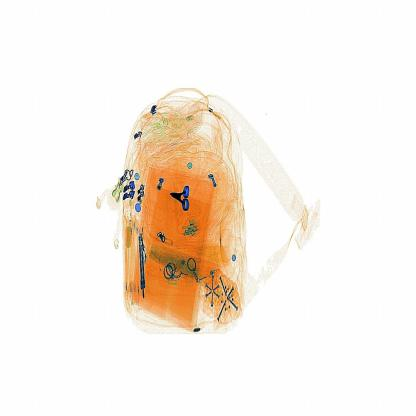gun: (165, 184, 199, 214)
